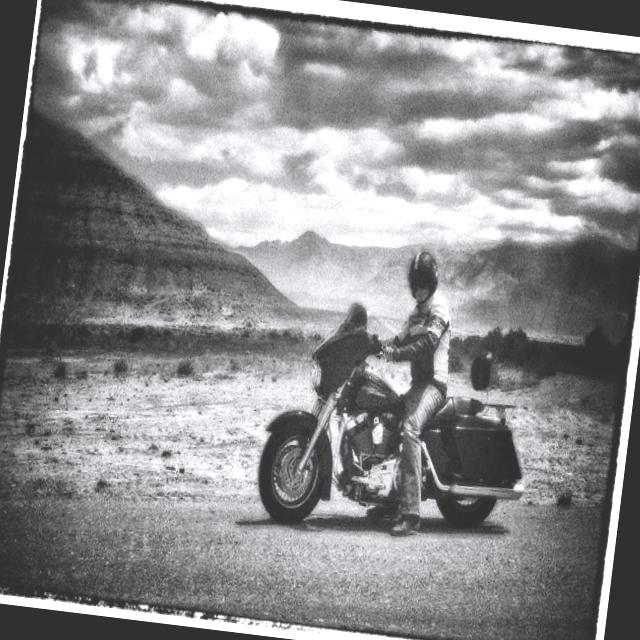Vehicle: (251, 293, 545, 555)
